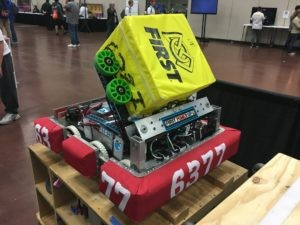cube: (95, 13, 216, 119)
